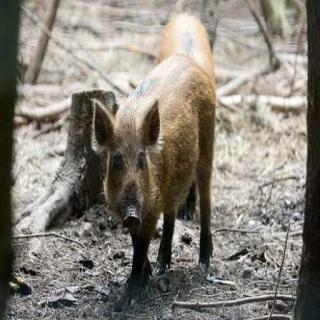Pig: (101, 8, 231, 289)
